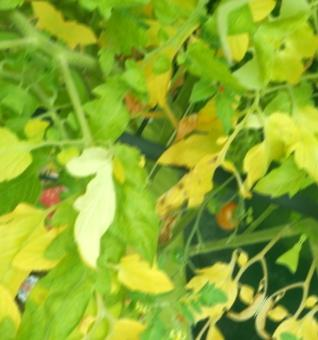Tomato leaf yellow virus: (131, 110, 247, 238), (104, 245, 182, 316), (0, 120, 48, 215), (72, 0, 171, 44), (302, 73, 318, 147)
